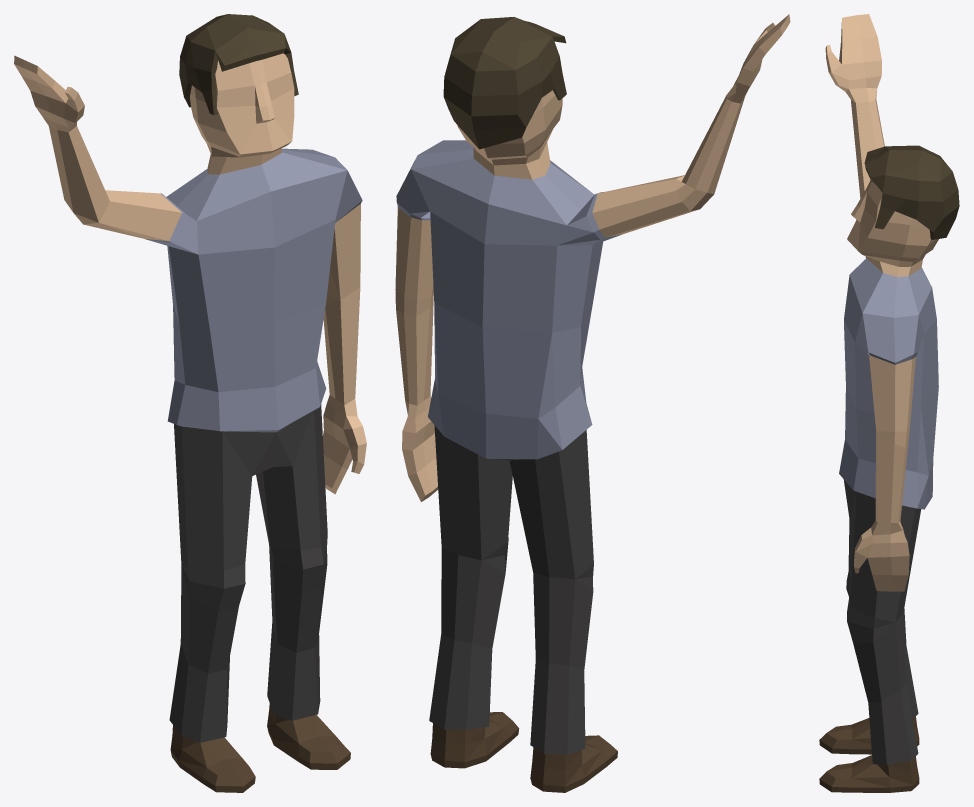
Rendered from Male_Crowd_Waving.glb.
3 views of the same model, side by side, from view 1: azimuth 30°, elevation 25°; view 2: azimuth 150°, elevation 25°; view 3: azimuth 270°, elevation 25° (orthographic). The views are drawn at different scales.
Visible parts, largest first — view 1: Male_Crowd_Waving; view 2: Male_Crowd_Waving; view 3: Male_Crowd_Waving.
Boxes of the visible parts, x1,y1,x2,y2 form: Male_Crowd_Waving: (14,14,366,792); Male_Crowd_Waving: (395,14,790,792); Male_Crowd_Waving: (819,14,959,792).
Bounding box in the file's own units: 0.9217 × 1.89 × 0.3701.
